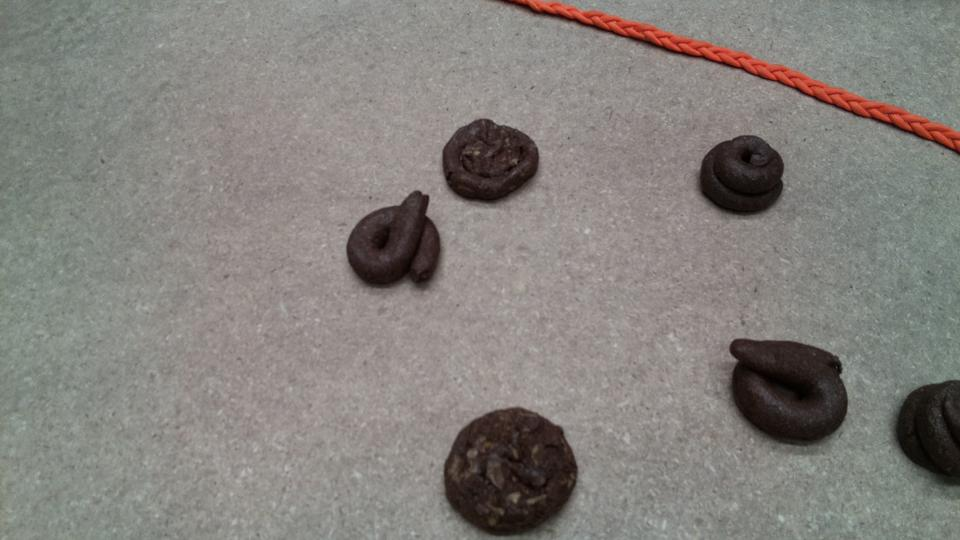poop: (440, 404, 580, 537), (727, 335, 851, 447), (345, 189, 443, 291), (439, 115, 543, 205), (695, 131, 787, 217), (893, 376, 960, 481)
rope: (532, 1, 960, 144)
